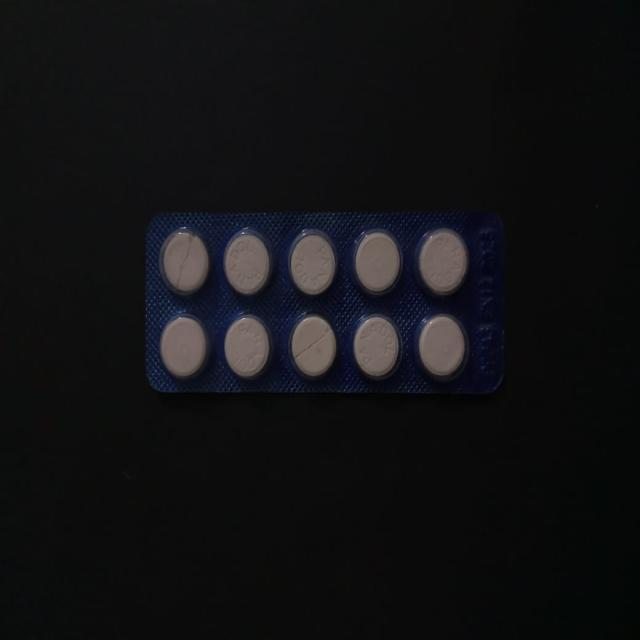defect: (158, 227, 211, 298), (289, 309, 338, 383)
